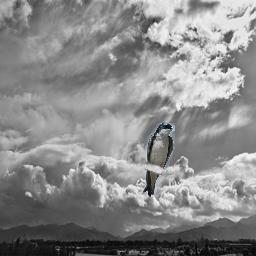Swallow: (143, 123, 175, 197)
